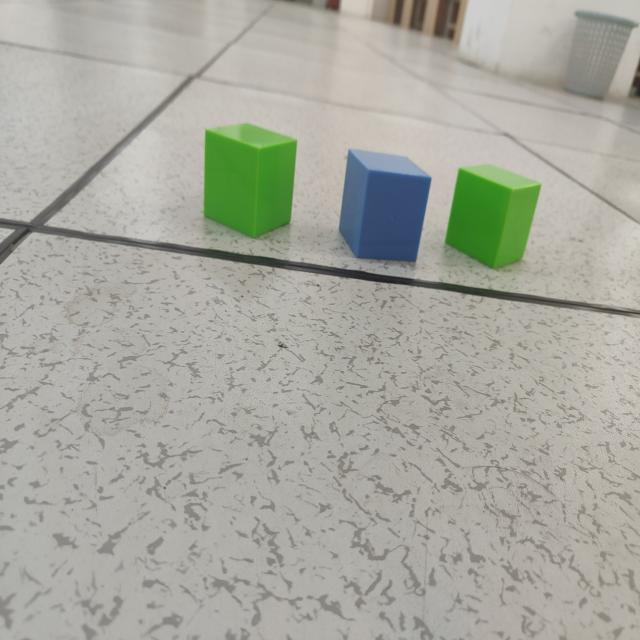blue: (338, 149, 433, 267)
green: (202, 124, 298, 240), (446, 165, 541, 270)
